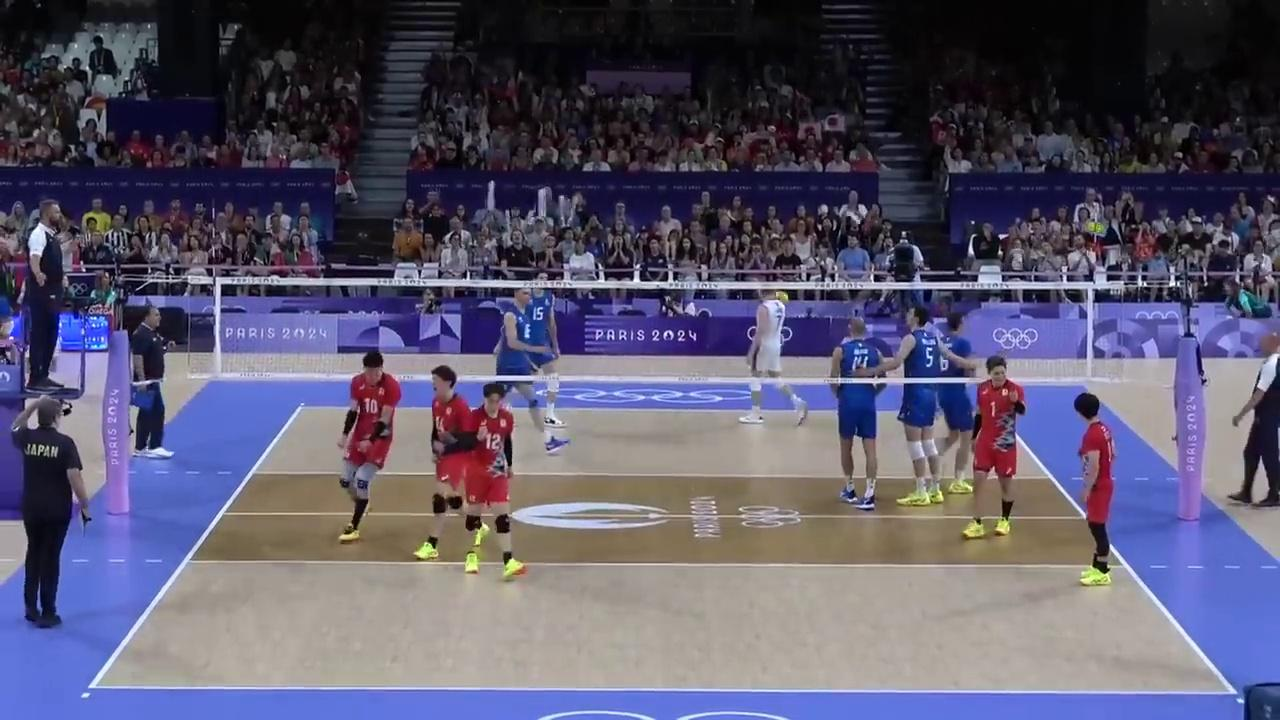ball: (777, 289, 791, 306)
